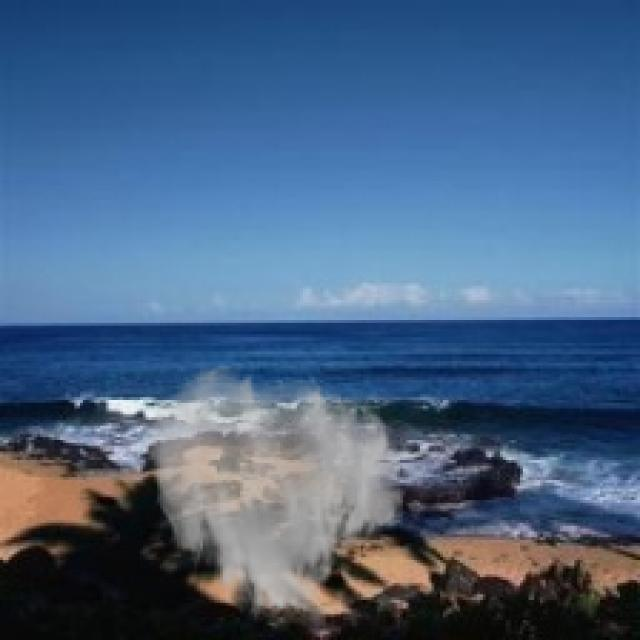smoke: (143, 363, 408, 628)
